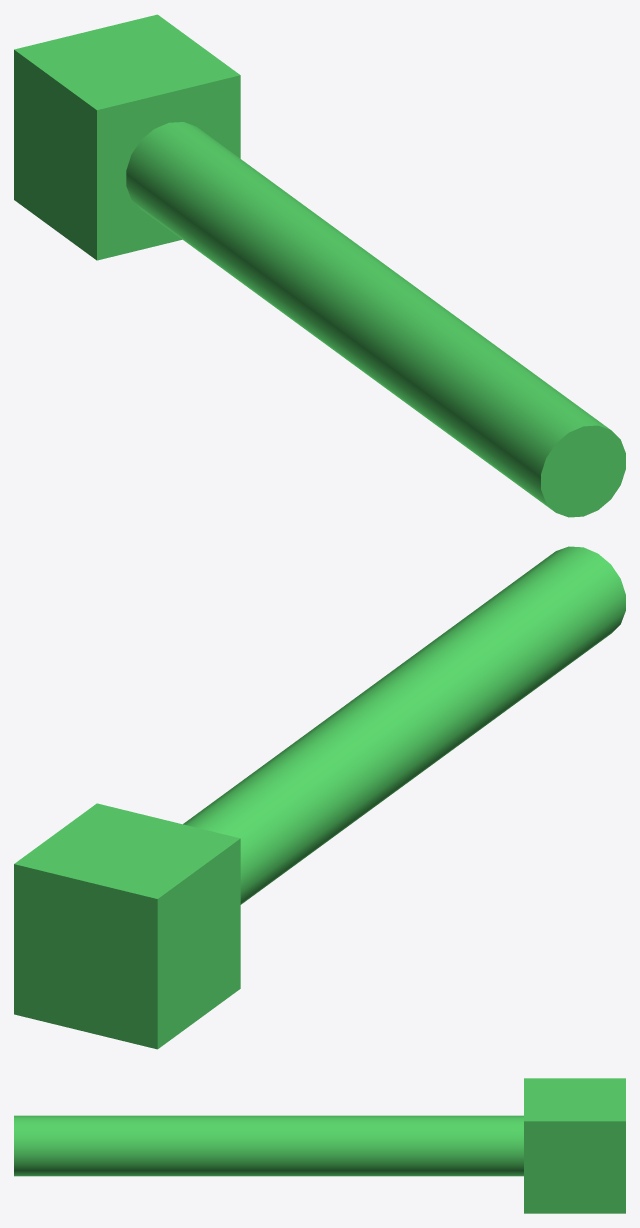
Rendered from Scale_Y.fbx.
3 views of the same model, one above another, from view 1: azimuth 30°, elevation 25°; view 2: azimuth 150°, elevation 25°; view 3: azimuth 270°, elevation 25° (orthographic). The views are drawn at different scales.
Visible parts, largest first — view 1: Y_Axis2; view 2: Y_Axis2; view 3: Y_Axis2.
Boxes of the visible parts, left/top/right/bottom form: Y_Axis2: left=14, top=14, right=625, bottom=517; Y_Axis2: left=14, top=546, right=625, bottom=1049; Y_Axis2: left=14, top=1078, right=625, bottom=1213.
Size of the model in its own units: 10 by 10 by 60.
